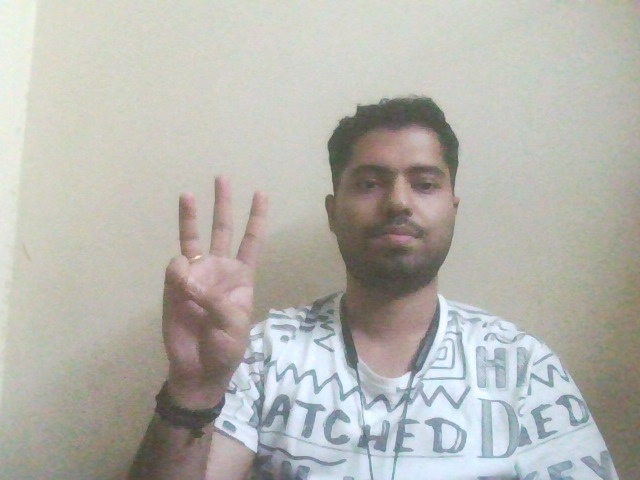IloveYou: (139, 164, 308, 402)
